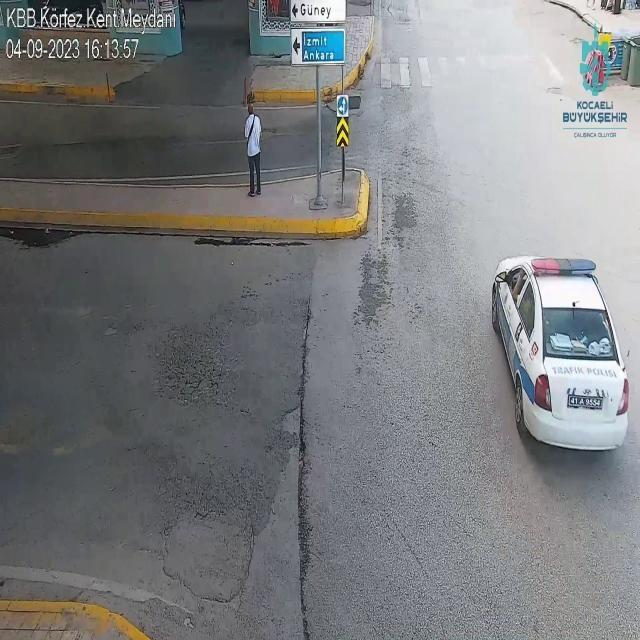Car: (492, 255, 636, 462)
